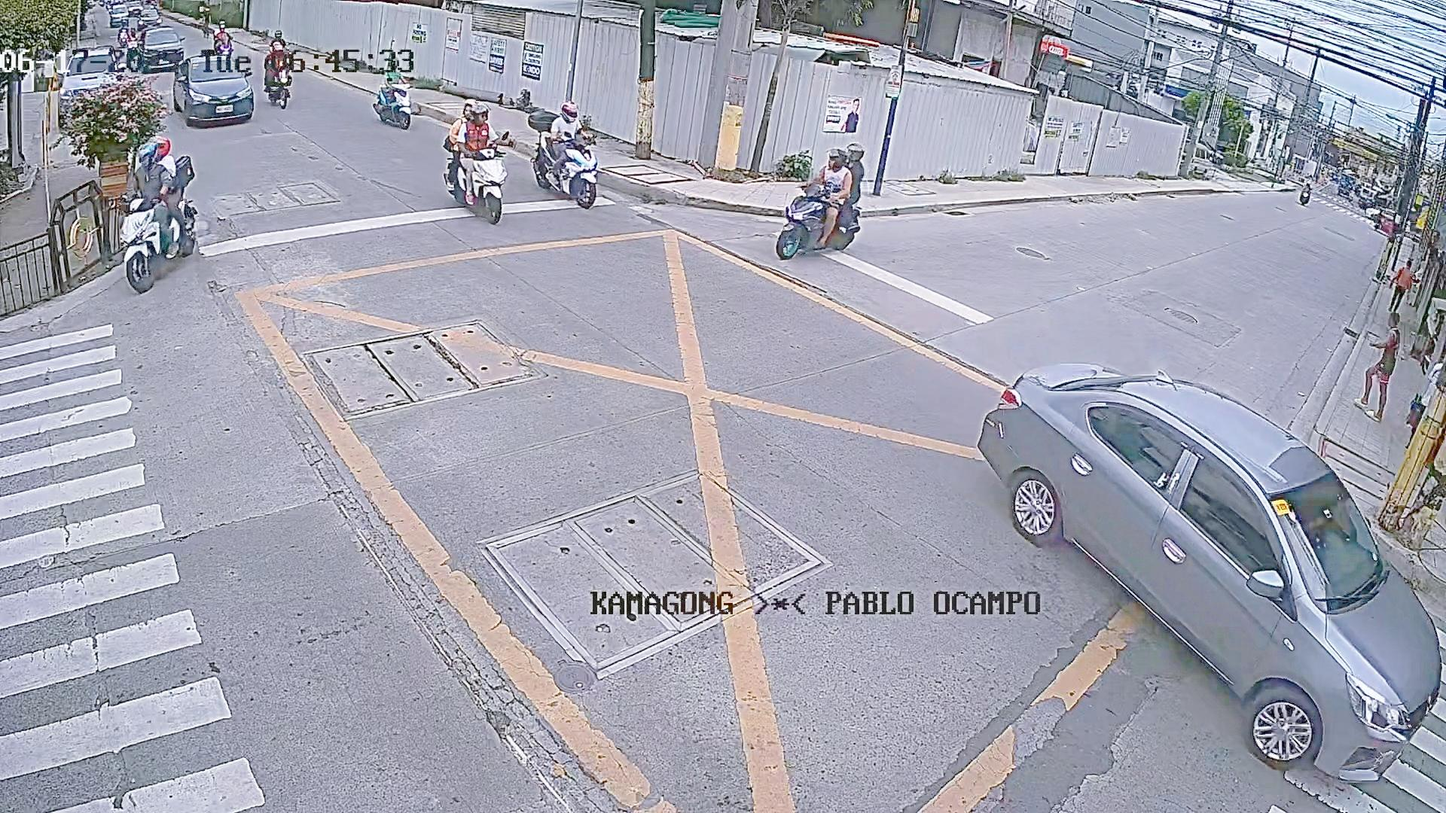Car: (941, 348, 1446, 813), (160, 54, 271, 130)
Motor: (749, 128, 895, 273), (113, 143, 202, 288), (523, 85, 612, 225), (434, 85, 511, 226), (364, 37, 417, 149), (258, 27, 325, 107)
